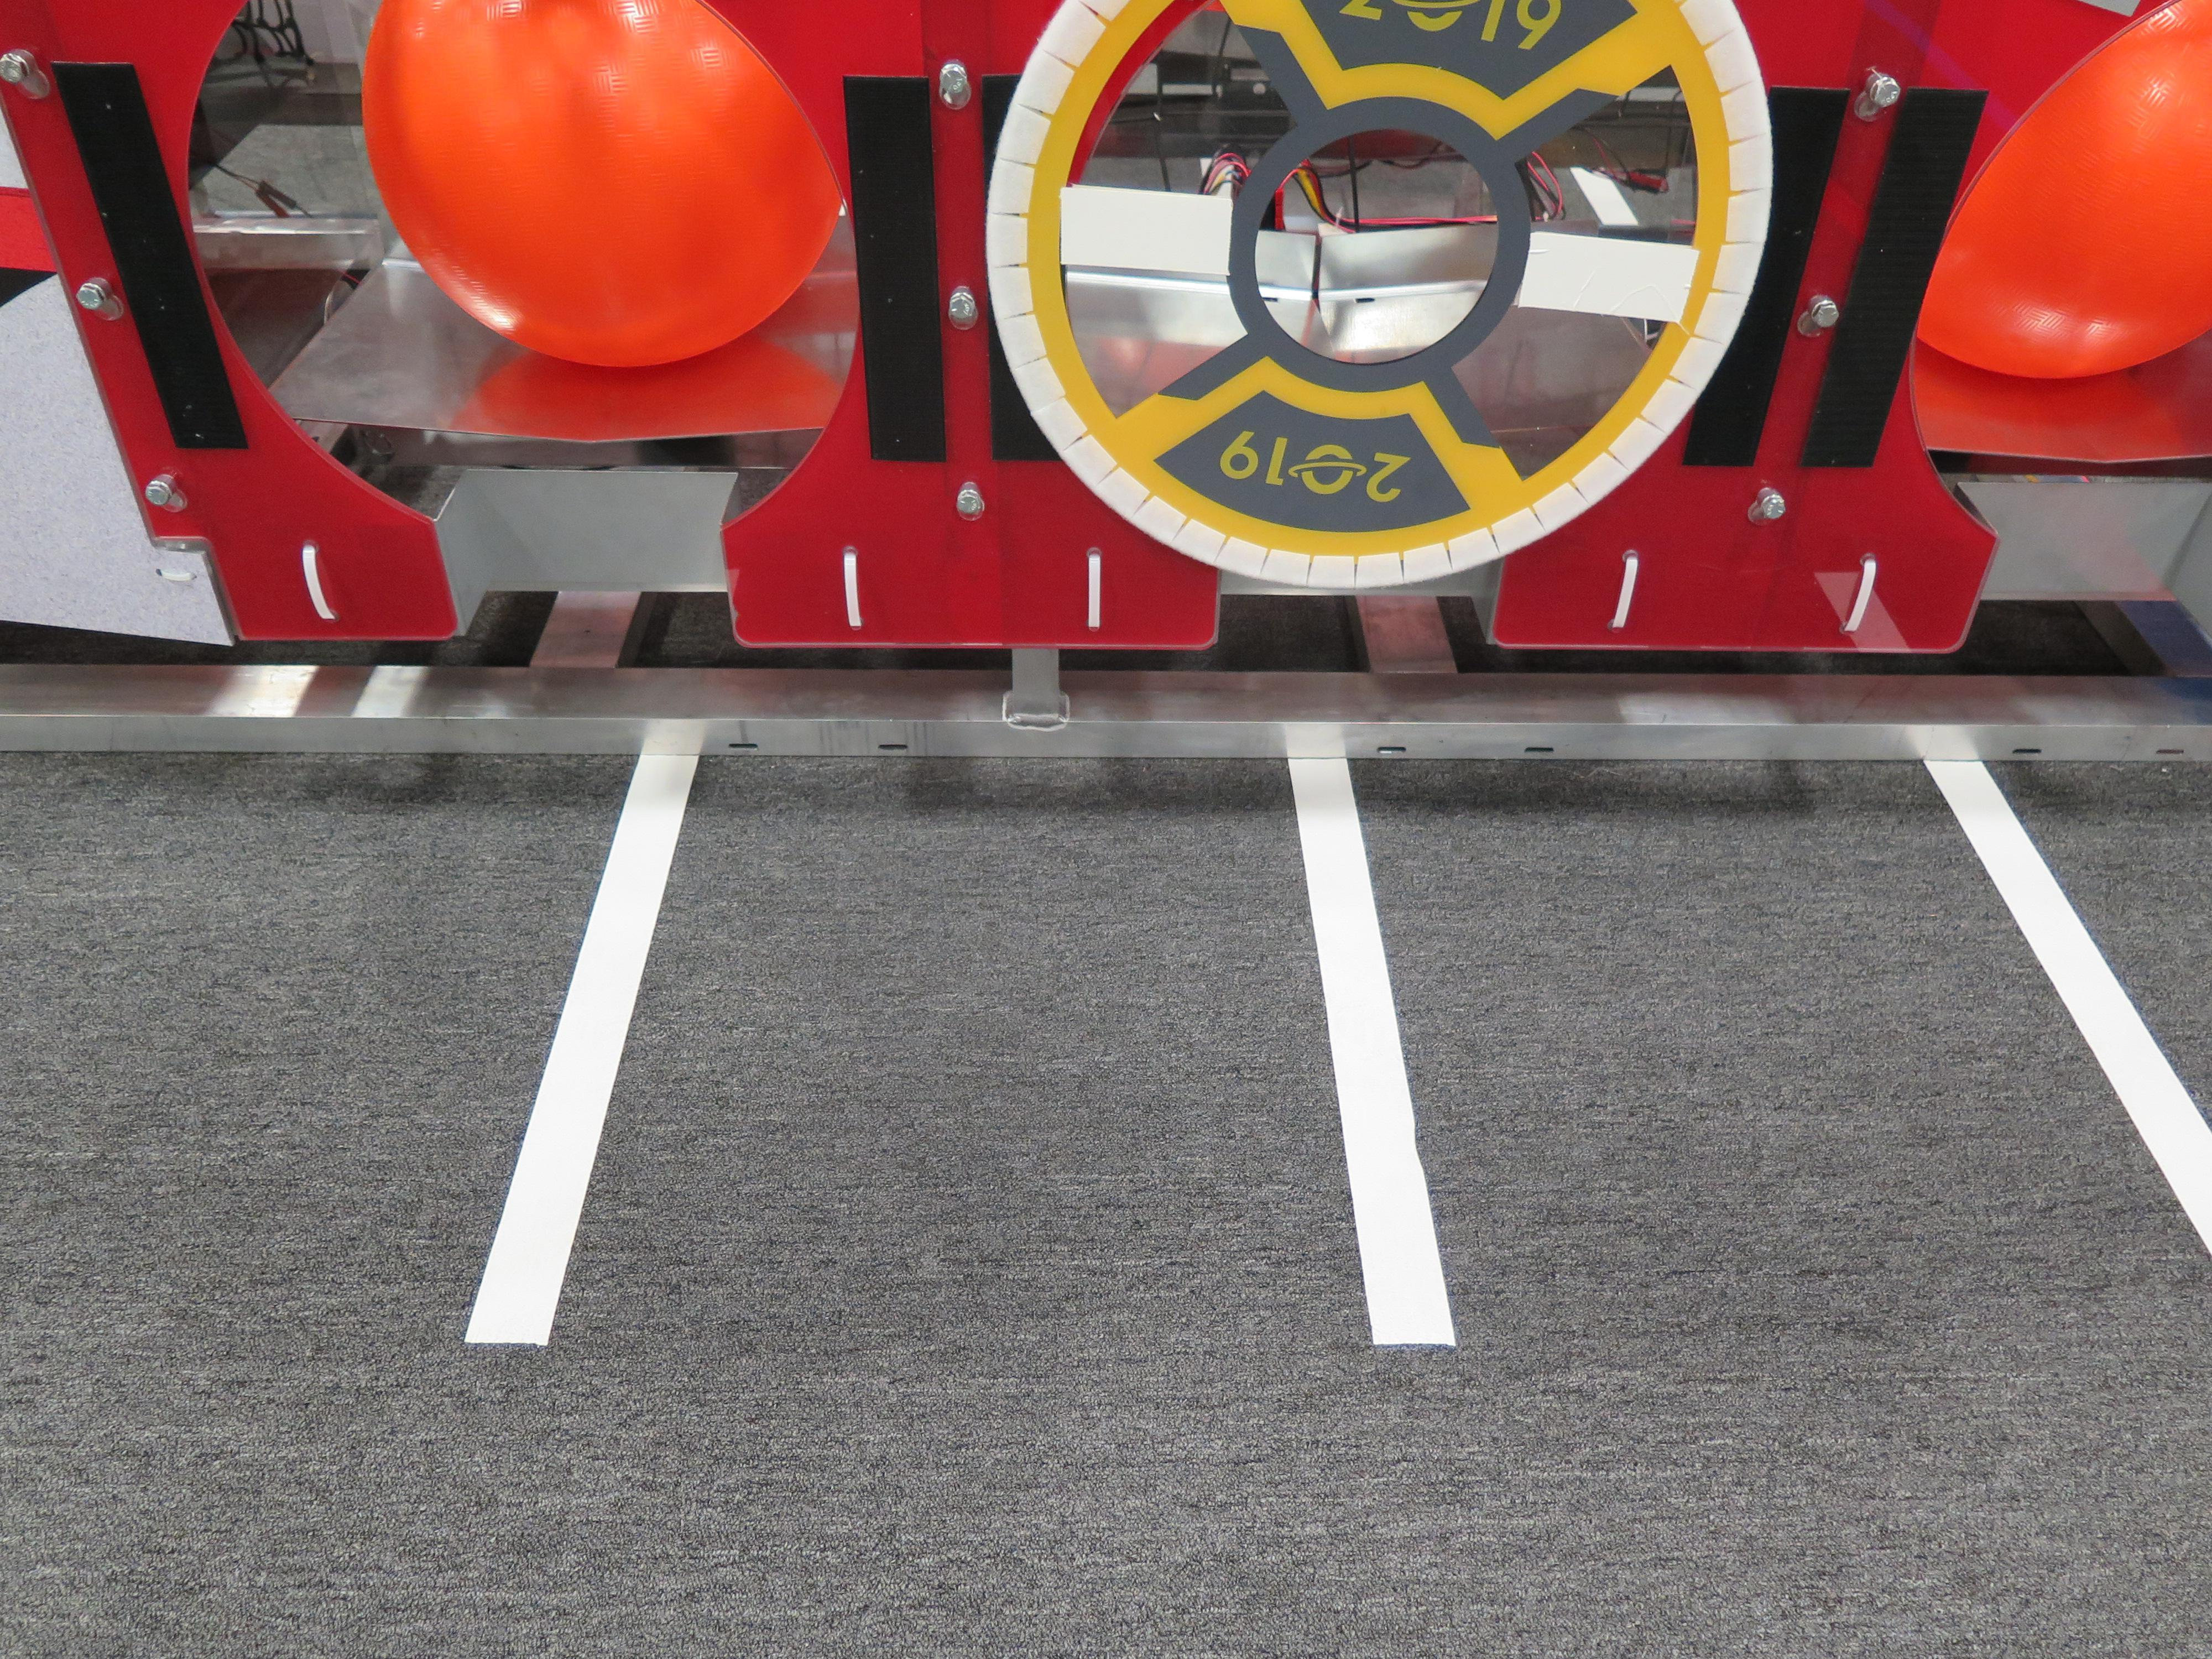Ball: (359, 0, 841, 369), (1911, 0, 2212, 378)
Hatch: (984, 0, 1770, 591)
